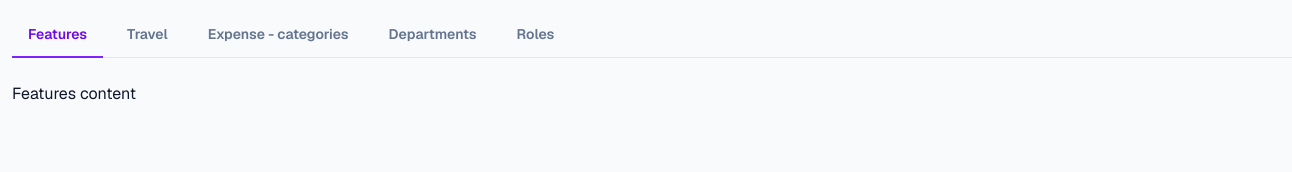
Test: SettingsTabs › switches to the travel panel on click
Click the tab "Travel" at (147, 35), box [111, 12, 184, 58]
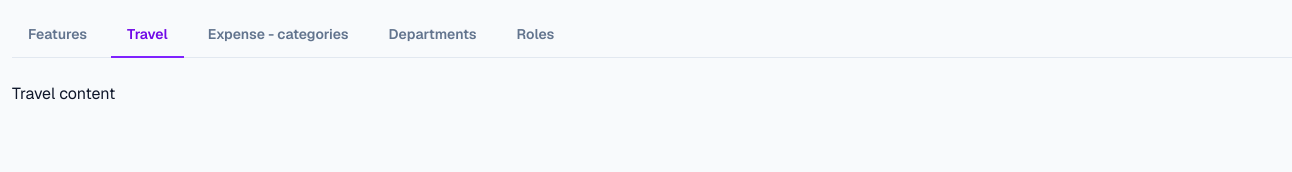
Expected: the text "Travel content" is shown, [12, 83, 115, 104]
Expected: the text "Features content" is gone
